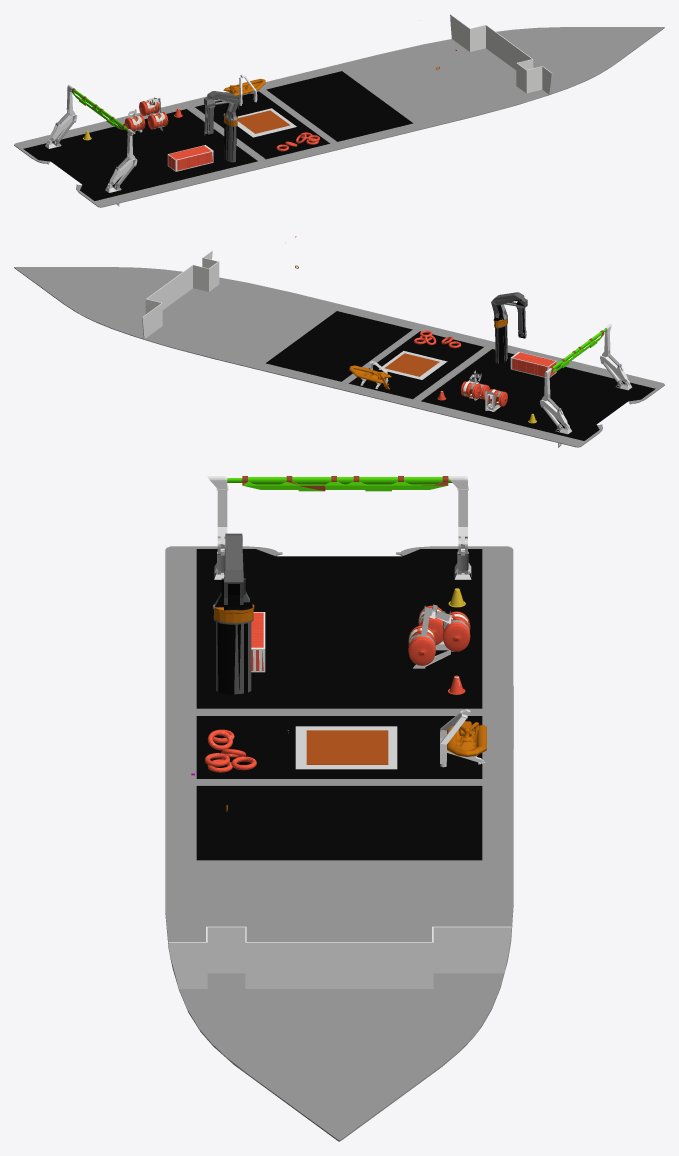
File: havyard2_main_deck.dae
The picture shows the model from 3 angles, top to bottom: view 1: azimuth 30°, elevation 25°; view 2: azimuth 150°, elevation 25°; view 3: azimuth 270°, elevation 25°; orthographic projection. The views are drawn at different scales.
Parts seen in each view (by area): view 1: node8.001, node1.001, node2.004, node0.005, RCRV Sparse.074, Container 1.001, Cube.003, Effer Crane Left.001, Effer Crane Left, node6.004, Effer Crane Middle, Plane (+2 smaller); view 2: node8.001, node1.001, node2.004, node0.005, RCRV Sparse.074, Container 1.001, Cube.003, Effer Crane Left, Effer Crane Left.001, node4.001, Effer Crane Middle, Plane (+2 smaller); view 3: node8.001, node1.001, node2.004, node0.005, RCRV Sparse.074, Cube.003, Effer Crane Middle, node6.004, node4.001, Plane, Effer Crane Left, Effer Crane Left.001 (+1 smaller).
Boxes of the visible parts, x1,y1,x2,y2 form: node8.001: [14, 27, 664, 207]; node1.001: [23, 109, 257, 200]; node2.004: [195, 71, 413, 159]; node0.005: [450, 14, 552, 94]; RCRV Sparse.074: [204, 91, 240, 162]; Container 1.001: [167, 145, 213, 171]; Cube.003: [237, 110, 290, 133]; Effer Crane Left.001: [105, 129, 137, 206]; Effer Crane Left: [45, 85, 77, 148]; node6.004: [259, 89, 336, 143]; Effer Crane Middle: [71, 88, 127, 130]; Plane: [237, 108, 296, 137]; node8.001: [14, 267, 664, 447]; node1.001: [421, 349, 655, 440]; node2.004: [266, 311, 483, 399]; node0.005: [142, 250, 219, 339]; RCRV Sparse.074: [491, 292, 527, 363]; Container 1.001: [510, 352, 556, 377]; Cube.003: [384, 353, 439, 376]; Effer Crane Left: [540, 368, 571, 447]; Effer Crane Left.001: [600, 324, 632, 390]; node4.001: [413, 347, 490, 400]; Effer Crane Middle: [551, 328, 606, 371]; Plane: [378, 351, 447, 379]; node8.001: [165, 546, 513, 1141]; node1.001: [196, 549, 482, 708]; node2.004: [196, 716, 482, 860]; node0.005: [168, 926, 511, 988]; RCRV Sparse.074: [213, 533, 254, 694]; Cube.003: [306, 730, 388, 764]; Effer Crane Middle: [227, 476, 452, 491]; node6.004: [196, 779, 482, 785]; node4.001: [196, 709, 482, 715]; Plane: [295, 726, 397, 769]; Effer Crane Left: [448, 476, 471, 579]; Effer Crane Left.001: [207, 476, 228, 579].
Bounding box in the file's own units: 1.38 × 0.3424 × 0.2151.
